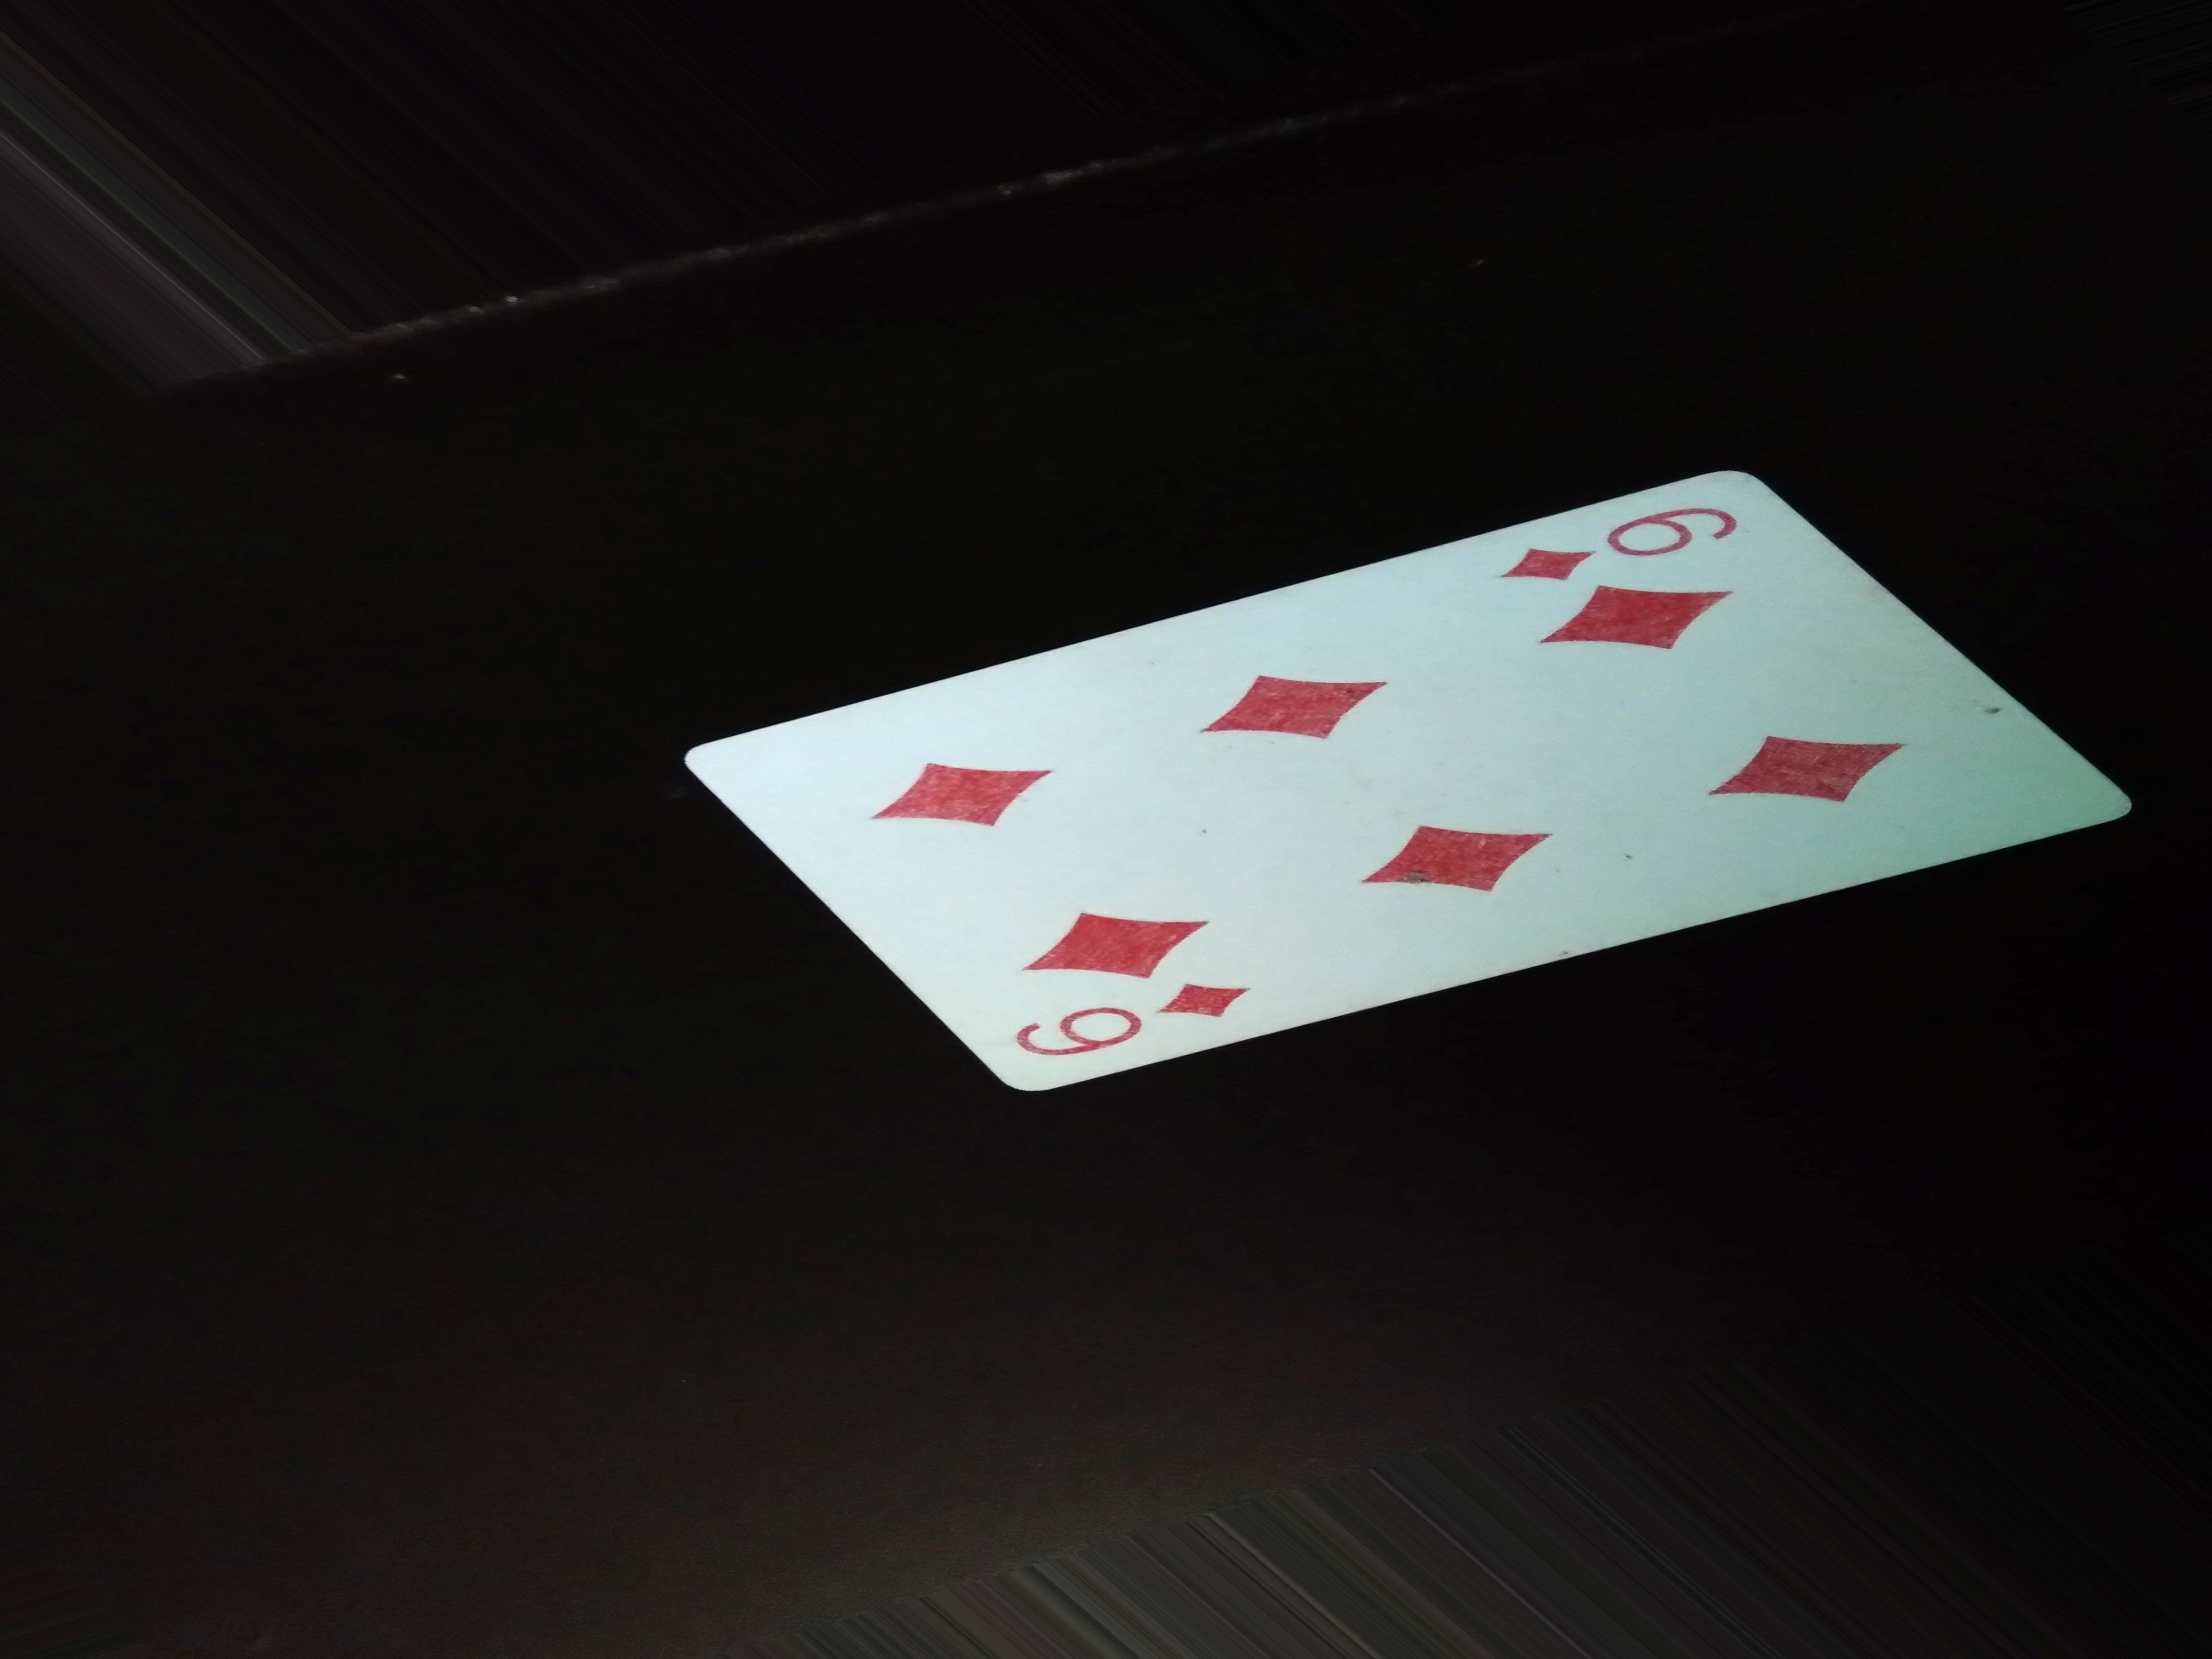6D: (991, 988, 1271, 1058)
